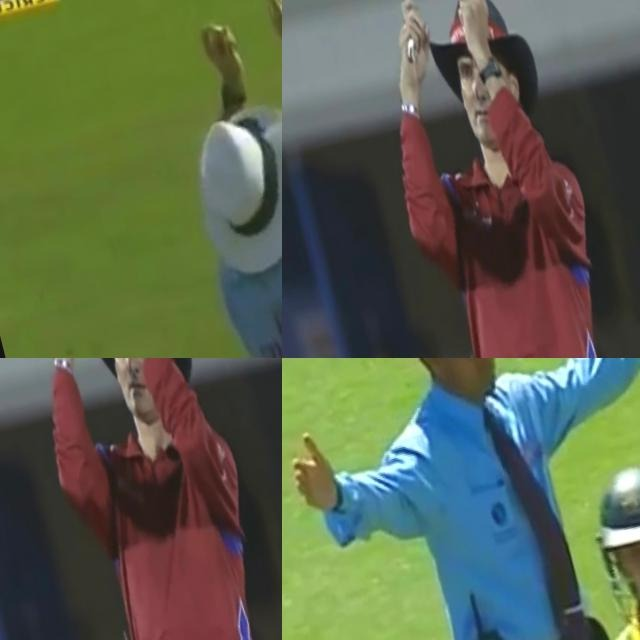Six: (334, 0, 640, 358), (1, 358, 282, 640), (116, 0, 282, 358)
Wide: (282, 358, 640, 602)
